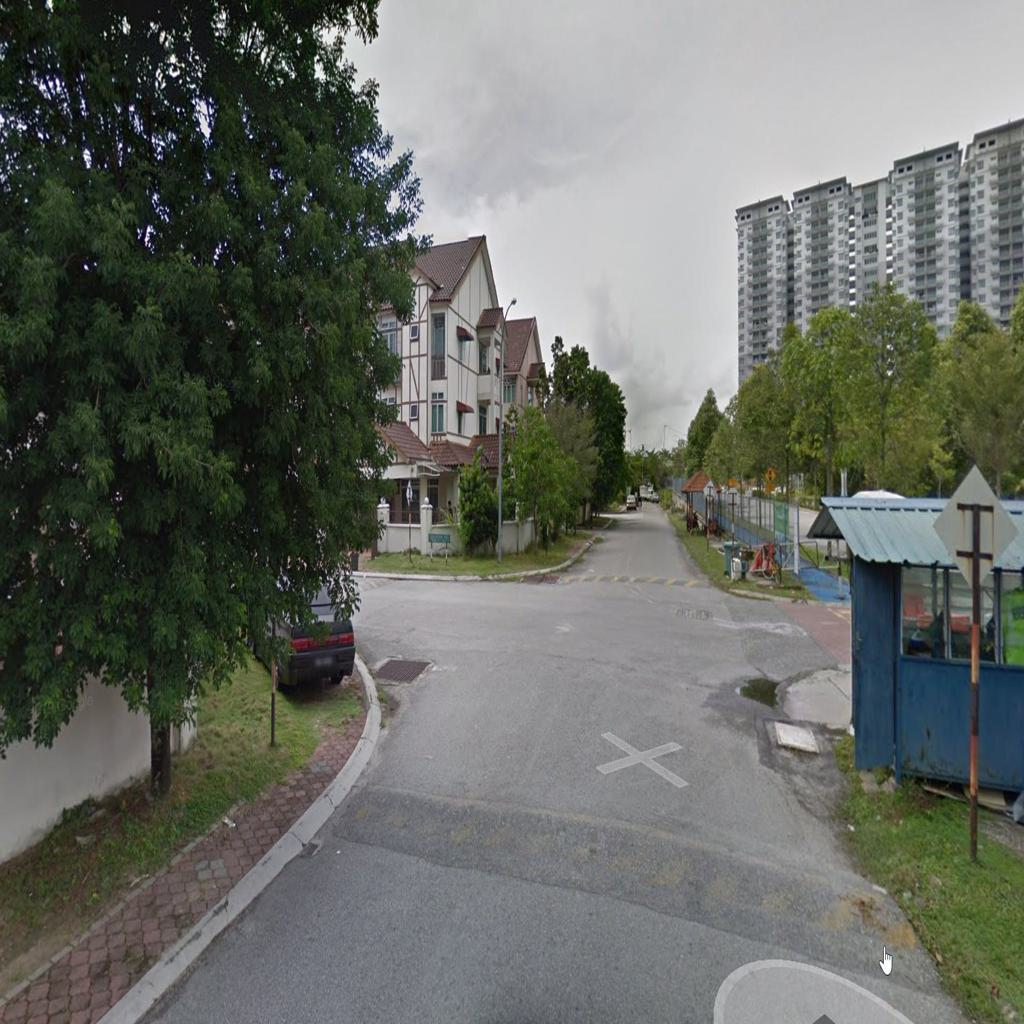Junction: (319, 552, 561, 738)
